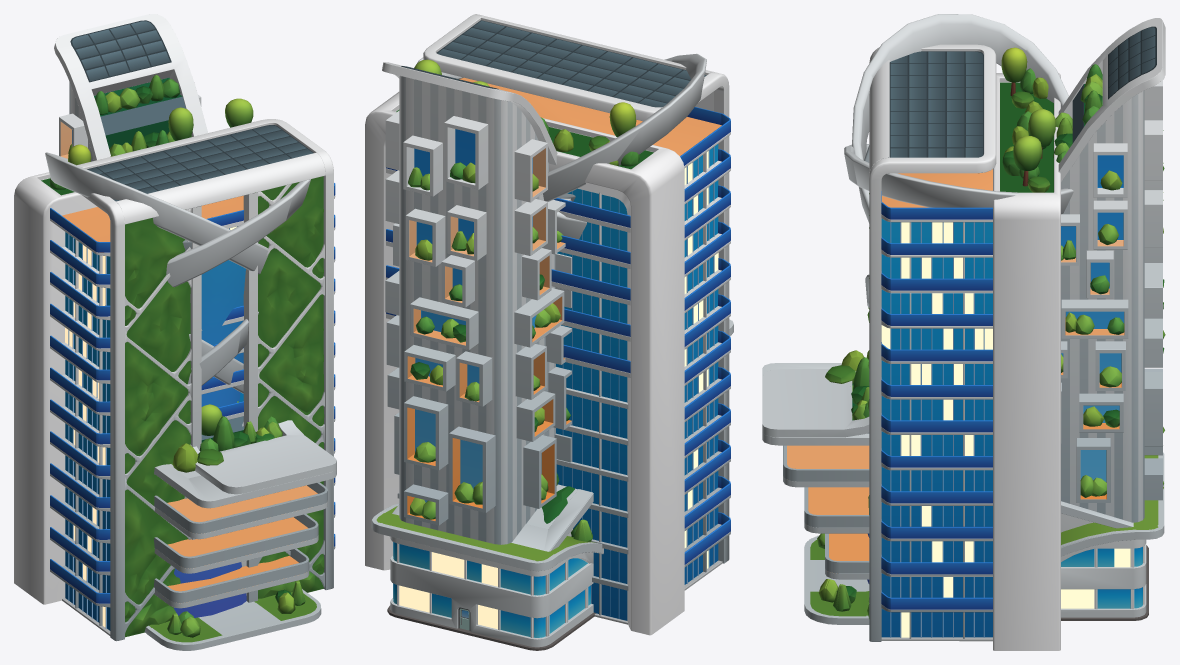
Rendered from kit.glb.
The picture shows the model from 3 angles, left to right: view 1: azimuth 30°, elevation 25°; view 2: azimuth 150°, elevation 25°; view 3: azimuth 270°, elevation 25°; orthographic projection. The views are drawn at different scales.
Parts seen in each view (by area): view 1: Cube.125, Eco_Building_Slope, Cylinder.005, Cube.018, Eco_Building_Grid_NightLight; view 2: Cube.125, Eco_Building_Slope, Cube.018, Cylinder.005, Eco_Building_Terrace_NightLight, Eco_Building_Grid_NightLight; view 3: Cube.125, Eco_Building_Slope, Cube.018, Cylinder.005, Eco_Building_Grid_NightLight, Eco_Building_Terrace_NightLight.
Part boxes in pixels (x1,y1,x2,y2): Cube.125: (14, 98, 335, 641); Eco_Building_Slope: (54, 14, 336, 650); Cylinder.005: (45, 152, 310, 617); Cube.018: (149, 404, 327, 643); Eco_Building_Grid_NightLight: (65, 226, 236, 627); Cube.125: (365, 14, 730, 635); Eco_Building_Slope: (375, 62, 733, 649); Cube.018: (371, 320, 732, 650); Cylinder.005: (415, 53, 706, 239); Eco_Building_Terrace_NightLight: (399, 552, 497, 629); Eco_Building_Grid_NightLight: (684, 151, 718, 568); Cube.125: (867, 44, 1060, 650); Eco_Building_Slope: (762, 18, 1165, 621); Cube.018: (764, 350, 1164, 624); Cylinder.005: (844, 14, 1073, 583); Eco_Building_Grid_NightLight: (881, 222, 992, 637); Eco_Building_Terrace_NightLight: (1061, 548, 1130, 608).
Size of the model in its own units: 30.86 by 57.38 by 38.49.
Materials: 10 (9 with a texture image).
